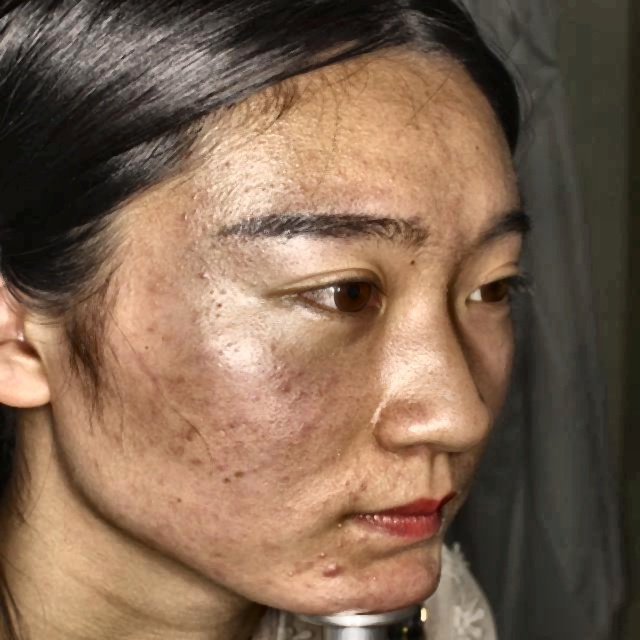comedone: (309, 547, 347, 594)
